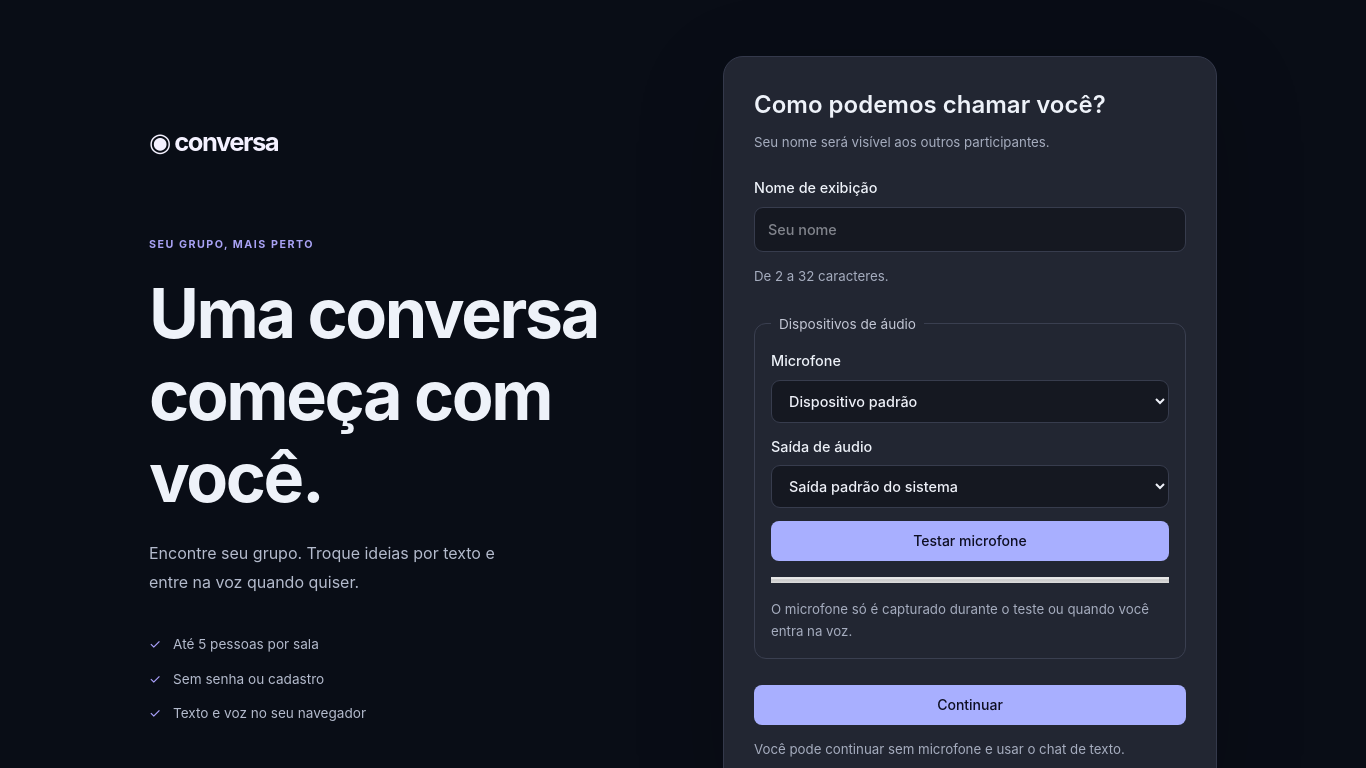
Test: identifica com nome normalizado e permite continuar sem microfone
The width and height of the screenshot is (1366, 768).
Expected: the button "Continuar" is enabled, [754,685,1186,725]
Expected: the text "Você pode continuar sem microfone e usar o chat de texto." is shown, [754,739,1186,760]
Type "  Ana   Maria  " into the field labelled "Nome de exibição" at (970, 230), box [754,207,1186,252]
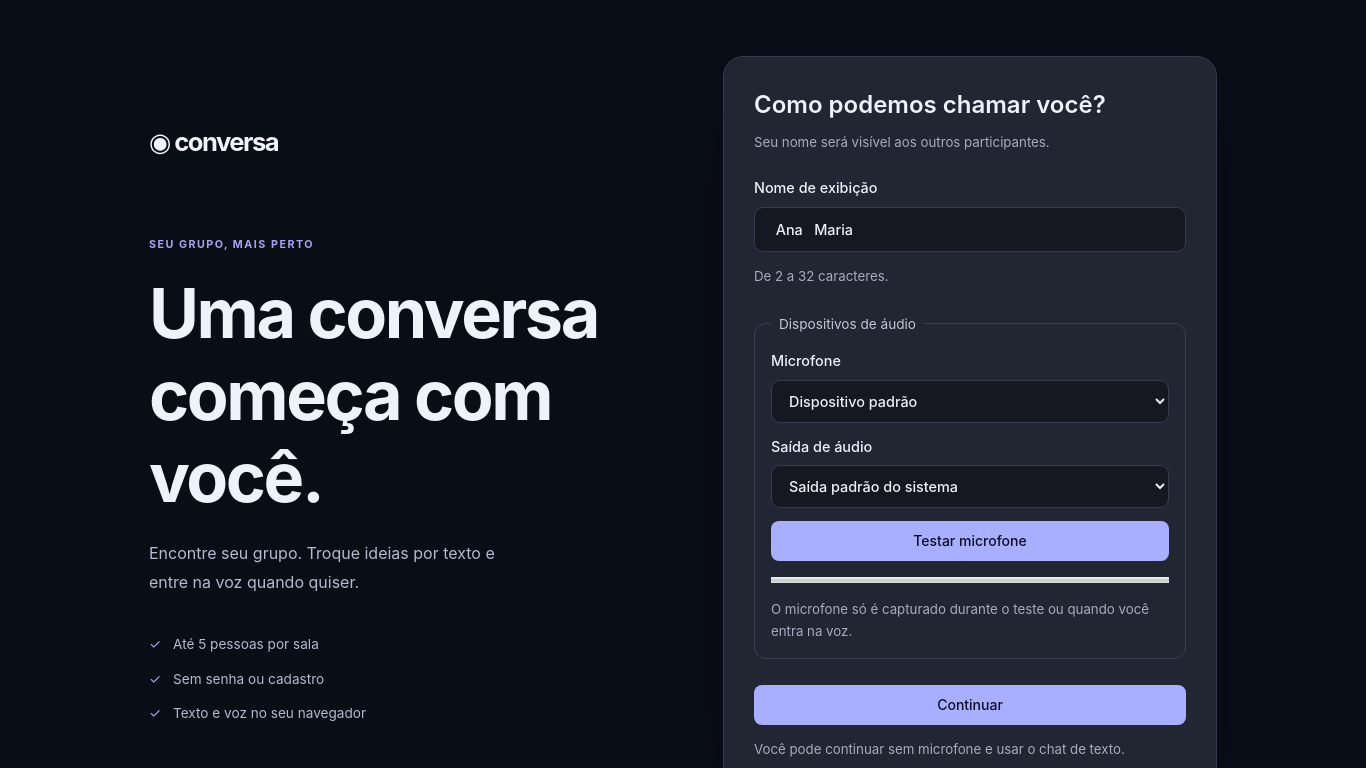
Click the button "Continuar" at (970, 705), box [754,685,1186,725]
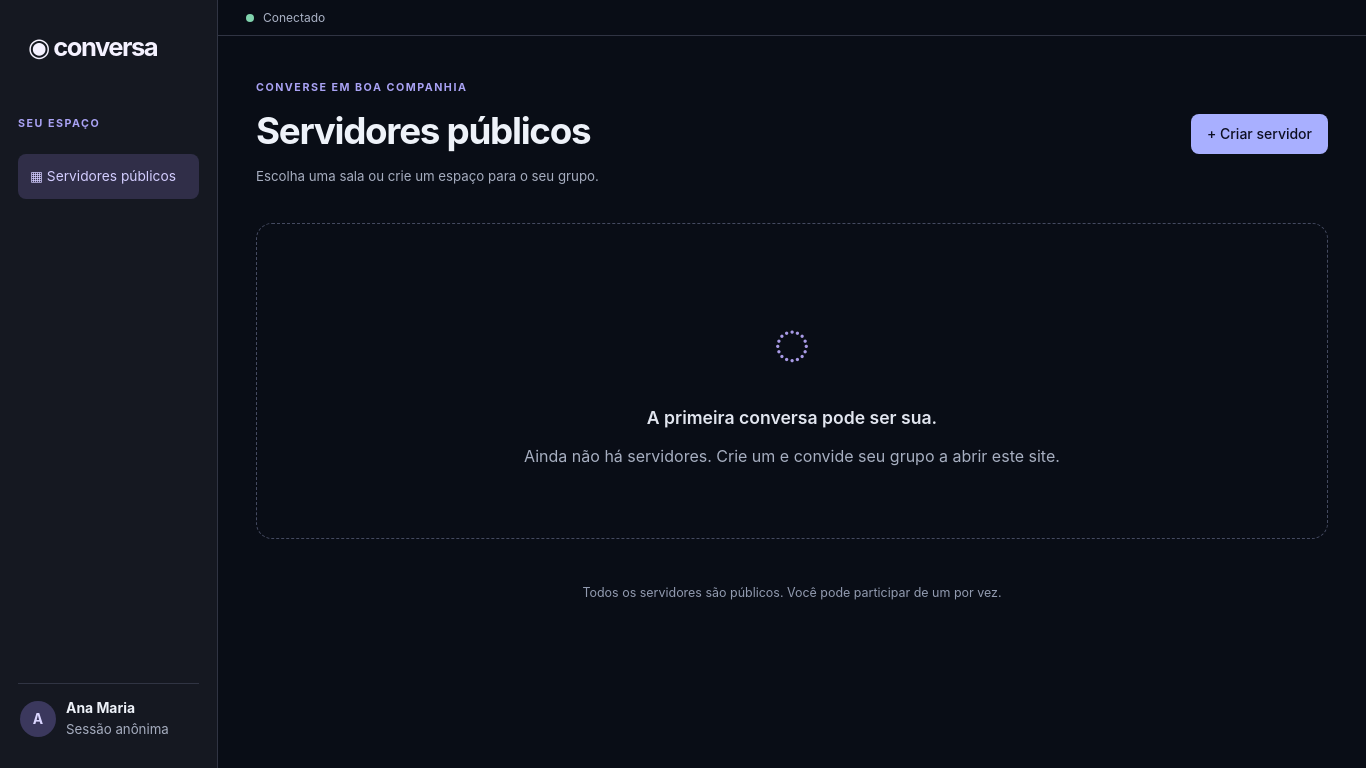
Now the heading "Servidores públicos" is shown, box [256,109,599,153]
